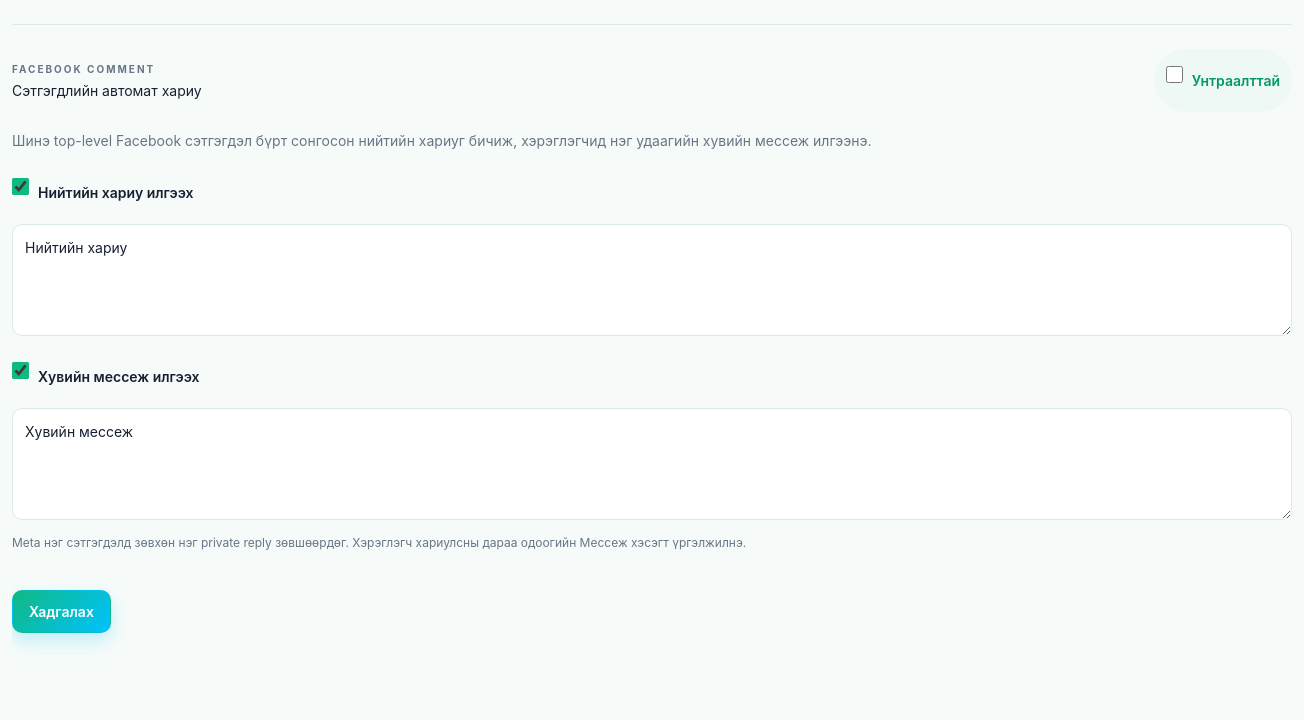
Test: loads and saves the static comment automation configuration
Expected: the heading "Сэтгэгдлийн автомат хариу" is shown, [12,80,202,100]
Click the checkbox labelled "Унтраалттай": coordinates (1174, 74) [1166,66,1183,83]
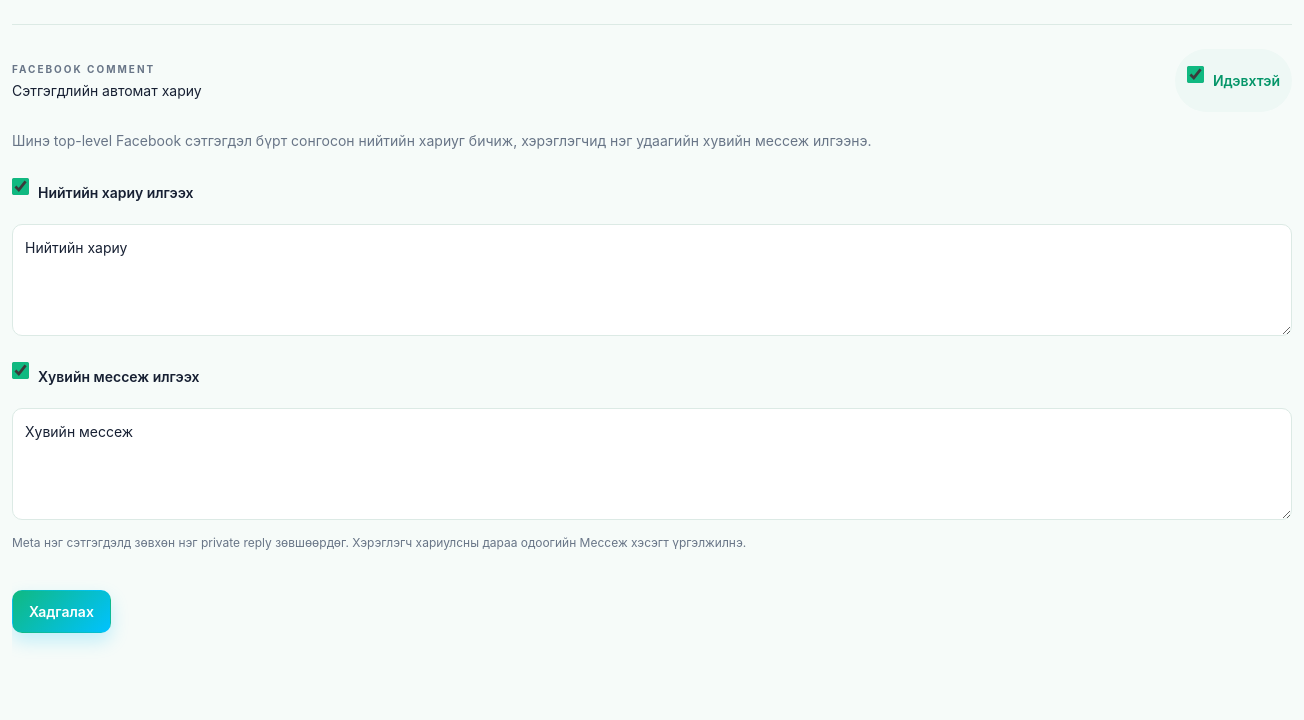
Replace the text in the text box named "Демо дэлгүүр нийтийн хариу" with "Чатаа шалгаарай 😊": coordinates (652, 280) [12,224,1292,336]
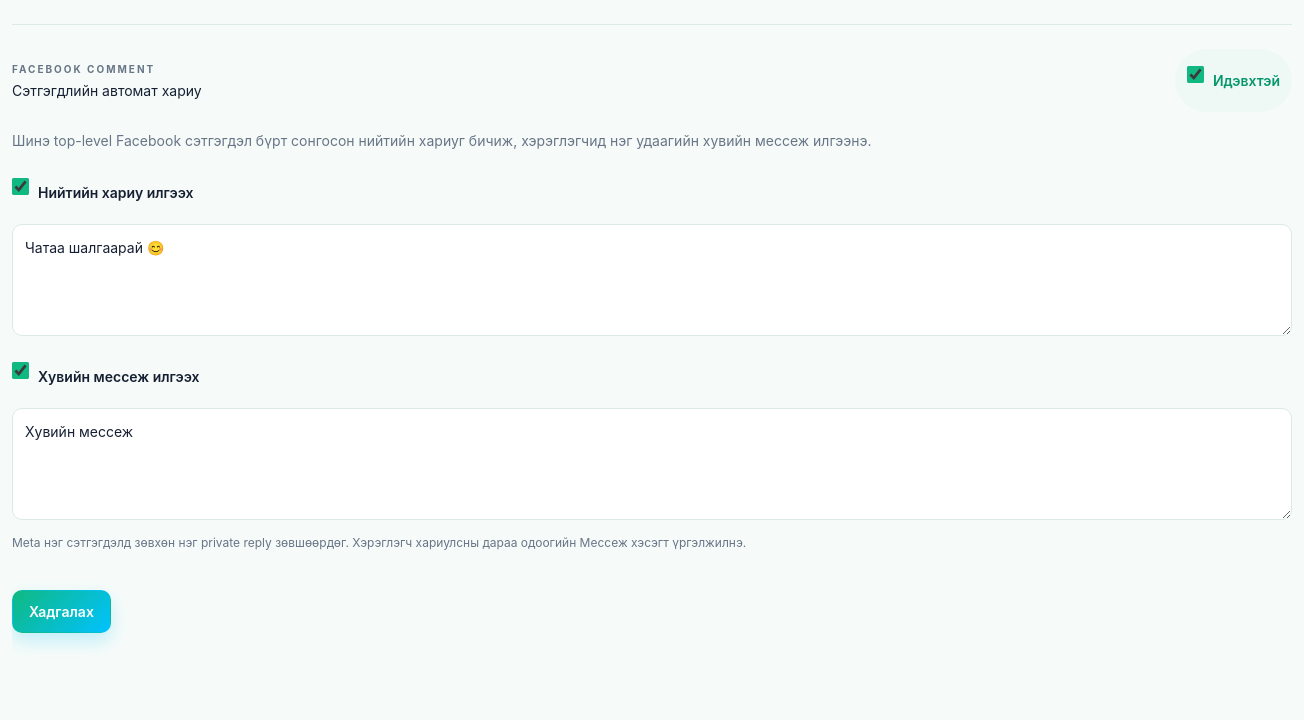
Click the button "Хадгалах": coordinates (61, 612) [12,590,111,633]
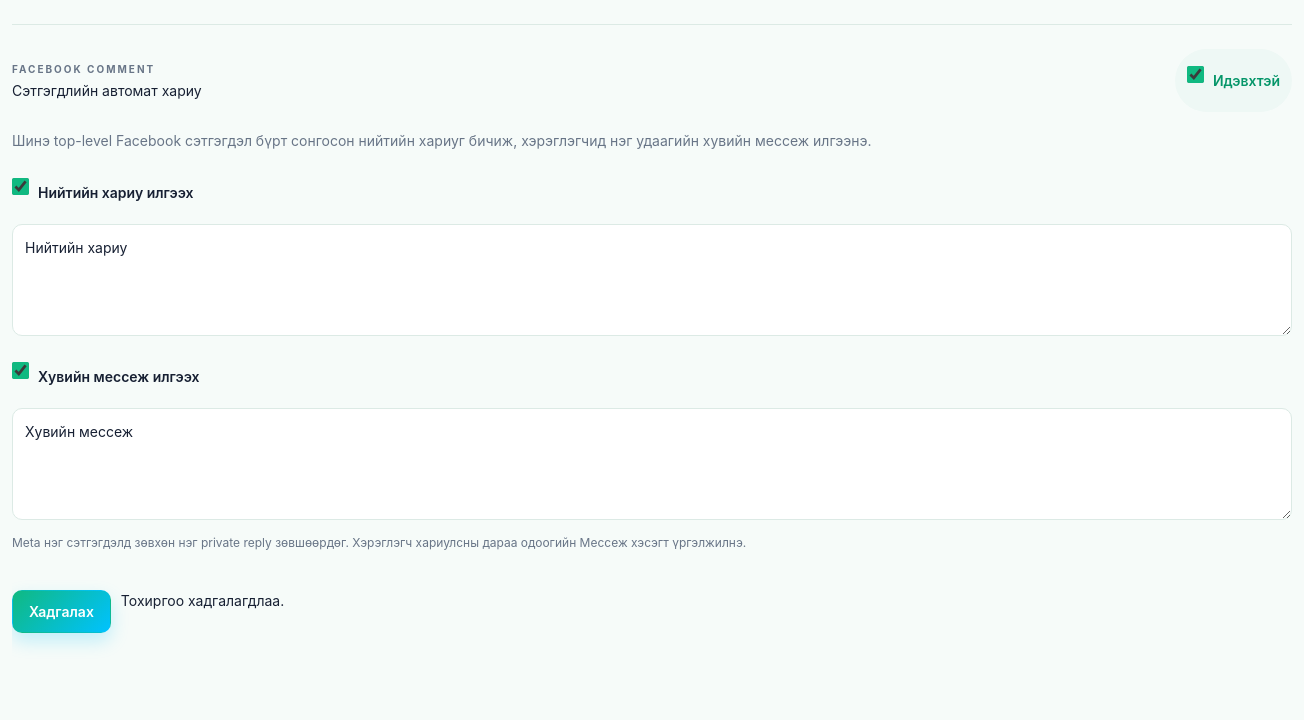
Expected: the text "Тохиргоо хадгалагдлаа." is shown, [121,592,284,609]
